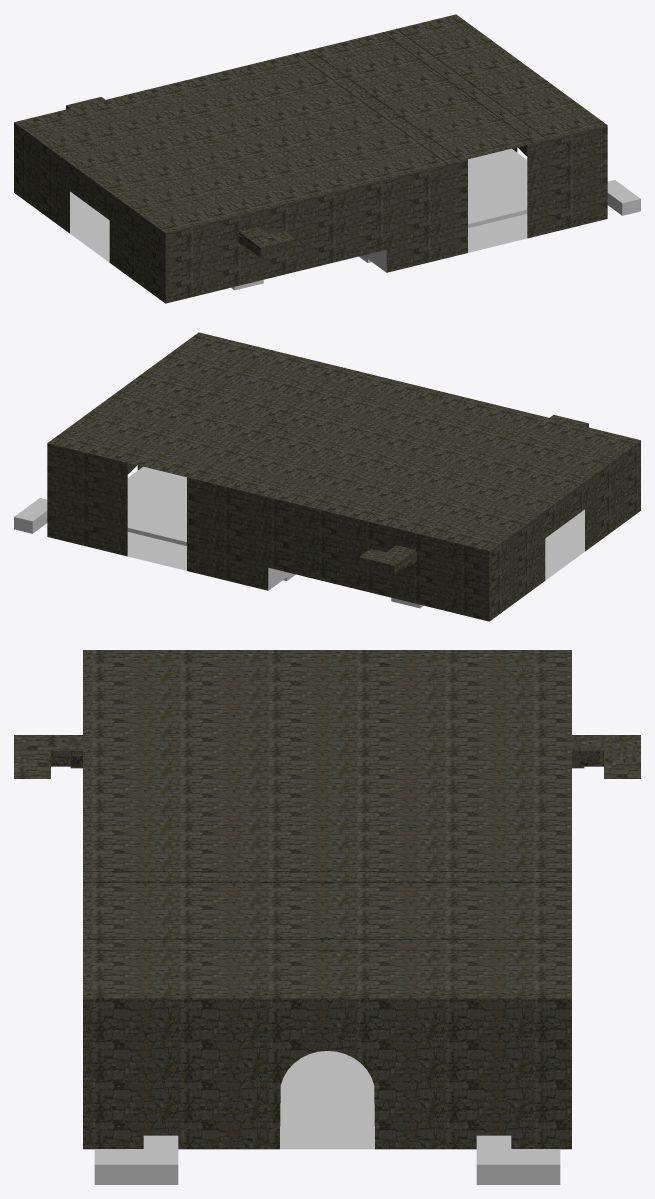
The model's file is Room1.fbx.
The picture shows the model from 3 angles, top to bottom: view 1: azimuth 30°, elevation 25°; view 2: azimuth 150°, elevation 25°; view 3: azimuth 270°, elevation 25°; orthographic projection. The views are drawn at different scales.
Parts seen in each view (by area): view 1: Room1; view 2: Room1; view 3: Room1.
Boxes of the visible parts, x1,y1,x2,y2 form: Room1: [14, 14, 640, 303]; Room1: [14, 332, 640, 621]; Room1: [14, 650, 640, 1184].
Bounding box in the file's own units: 6144 × 1206 × 4317.
